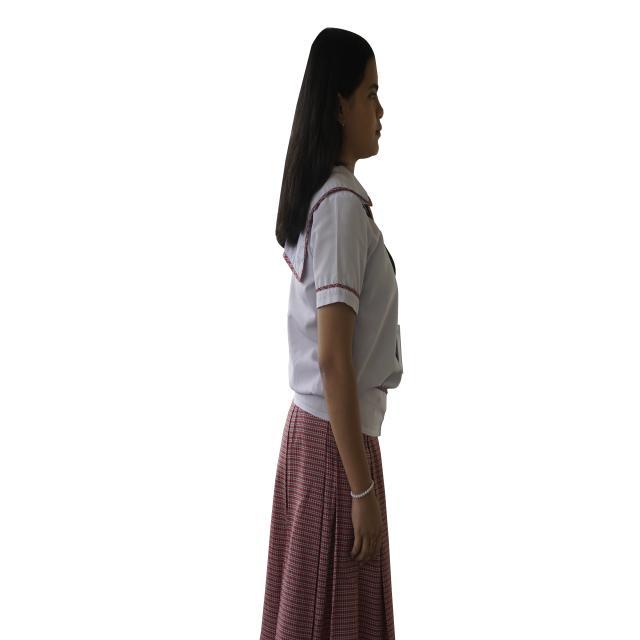pologirl: (283, 167, 403, 436)
skirt: (260, 402, 395, 640)
